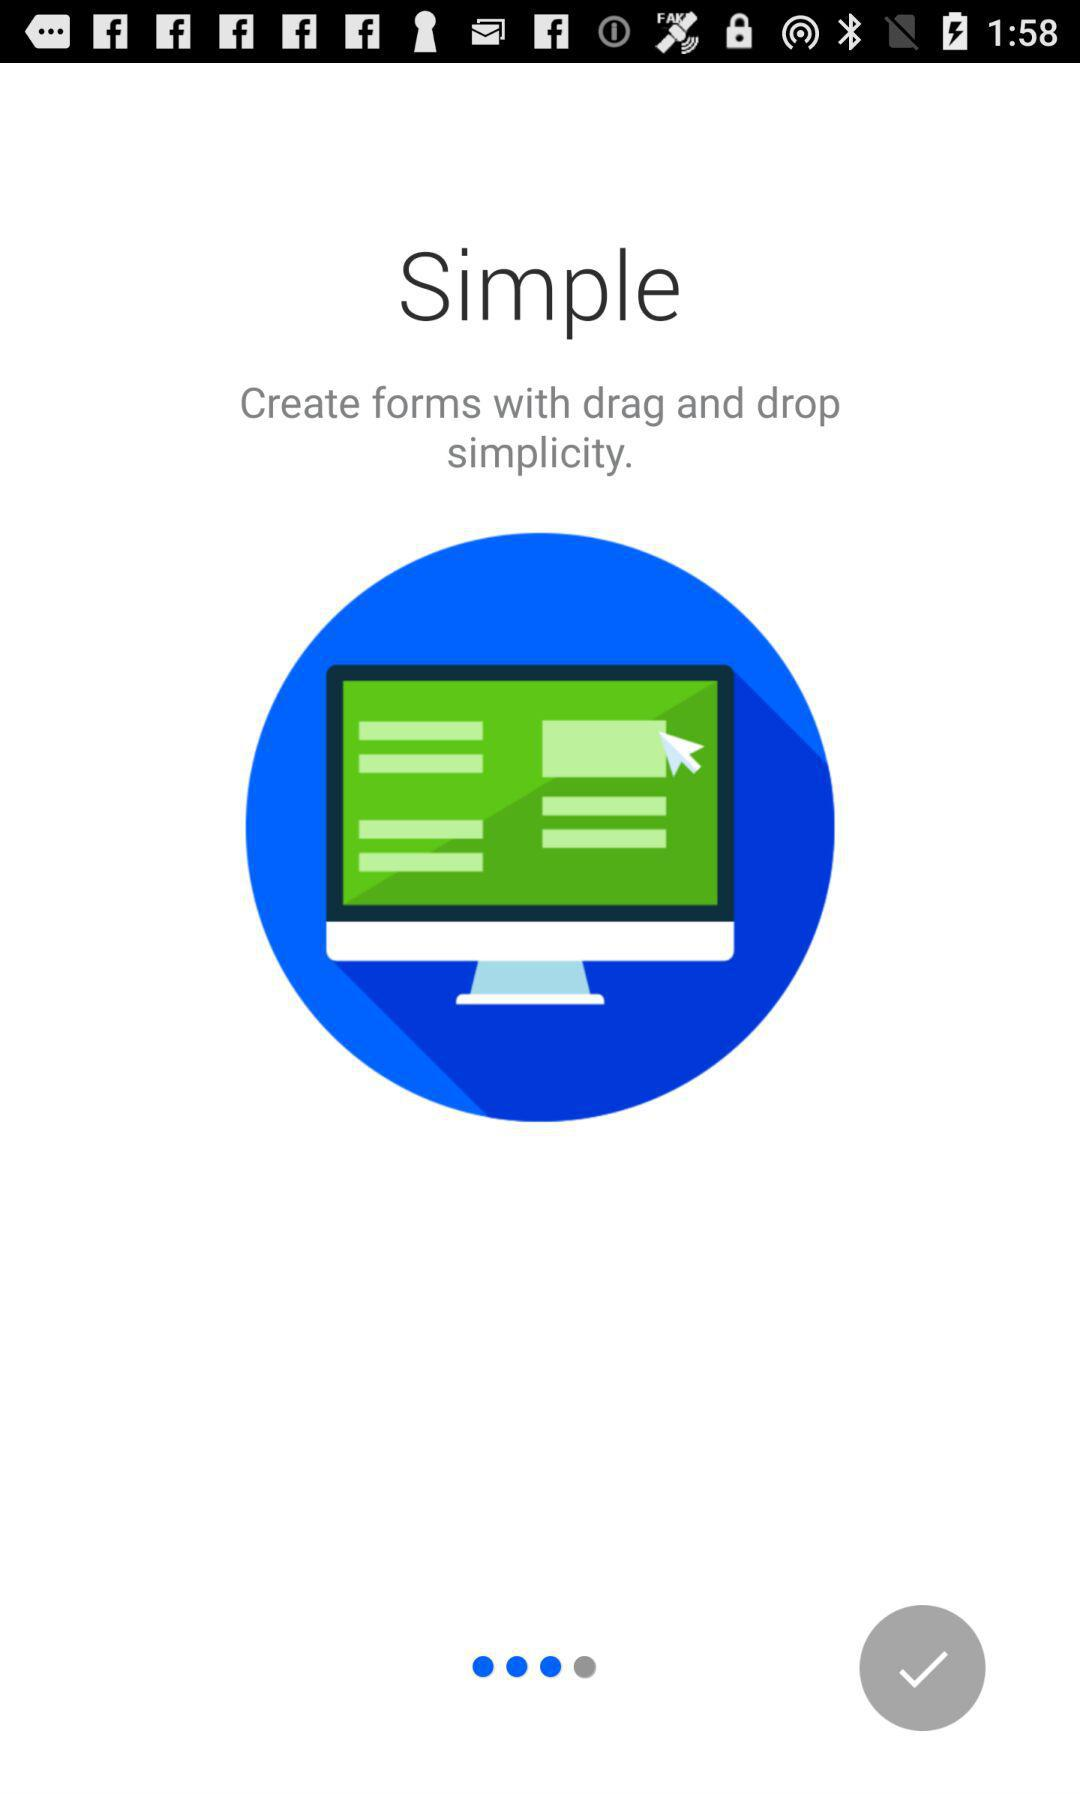Icon: (858, 1604, 986, 1732)
Image: (243, 531, 837, 1124)
PageIndicator: (471, 1653, 600, 1683)
Text: (240, 382, 842, 481), (400, 245, 682, 343)
UpperTaskBar: (1, 1, 1080, 64)
